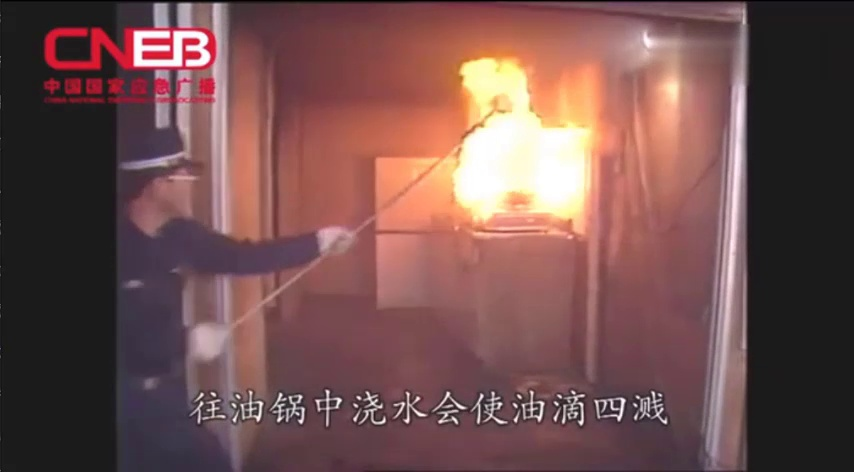fire: (439, 35, 603, 229)
